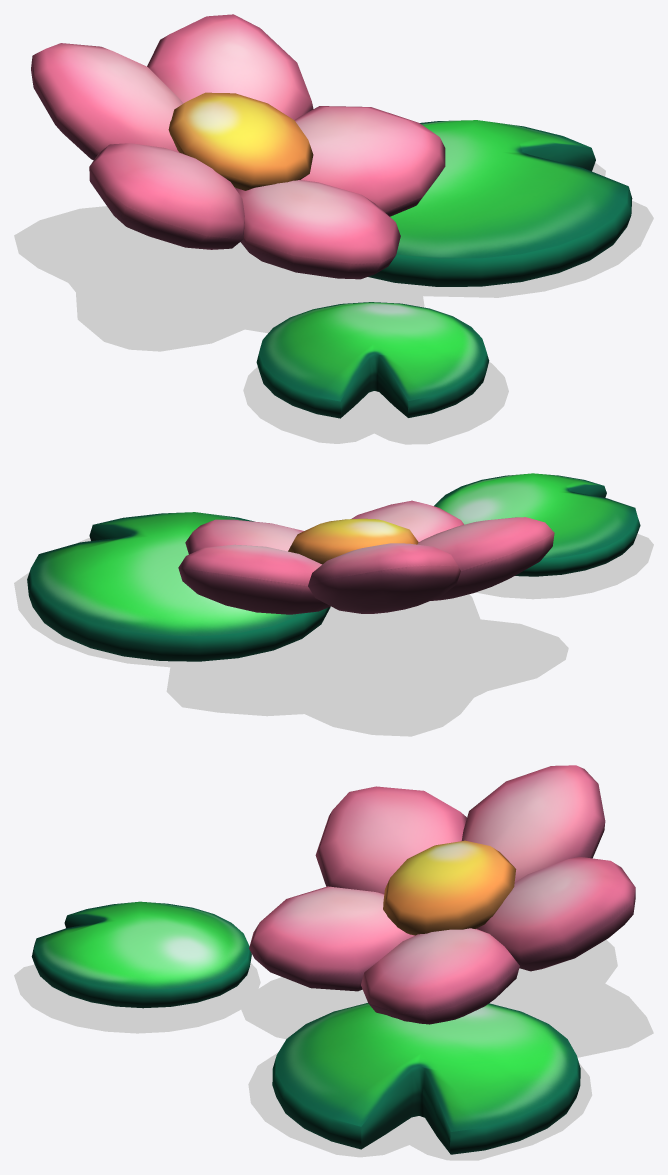
File: Lotus.fbx
3 views of the same model, one above another, from view 1: azimuth 30°, elevation 25°; view 2: azimuth 150°, elevation 25°; view 3: azimuth 270°, elevation 25° (orthographic). The views are drawn at different scales.
Visible parts, largest first — view 1: Lotus_body, W_SDW5, Lotus_leaf; view 2: Lotus_body, W_SDW5, Lotus_leaf; view 3: Lotus_body, W_SDW5, Lotus_leaf.
Part boxes in pixels (x1,y1,x2,y2): Lotus_body: (31, 14, 632, 286); W_SDW5: (14, 162, 653, 444); Lotus_leaf: (256, 302, 489, 418); Lotus_body: (27, 500, 554, 661); W_SDW5: (14, 533, 653, 736); Lotus_leaf: (434, 473, 640, 576); Lotus_body: (249, 765, 635, 1154); W_SDW5: (14, 939, 653, 1160); Lotus_leaf: (31, 901, 251, 1008).
Size of the model in its own units: 81.04 by 26.76 by 88.49.
Materials: 2 (1 with a texture image).
